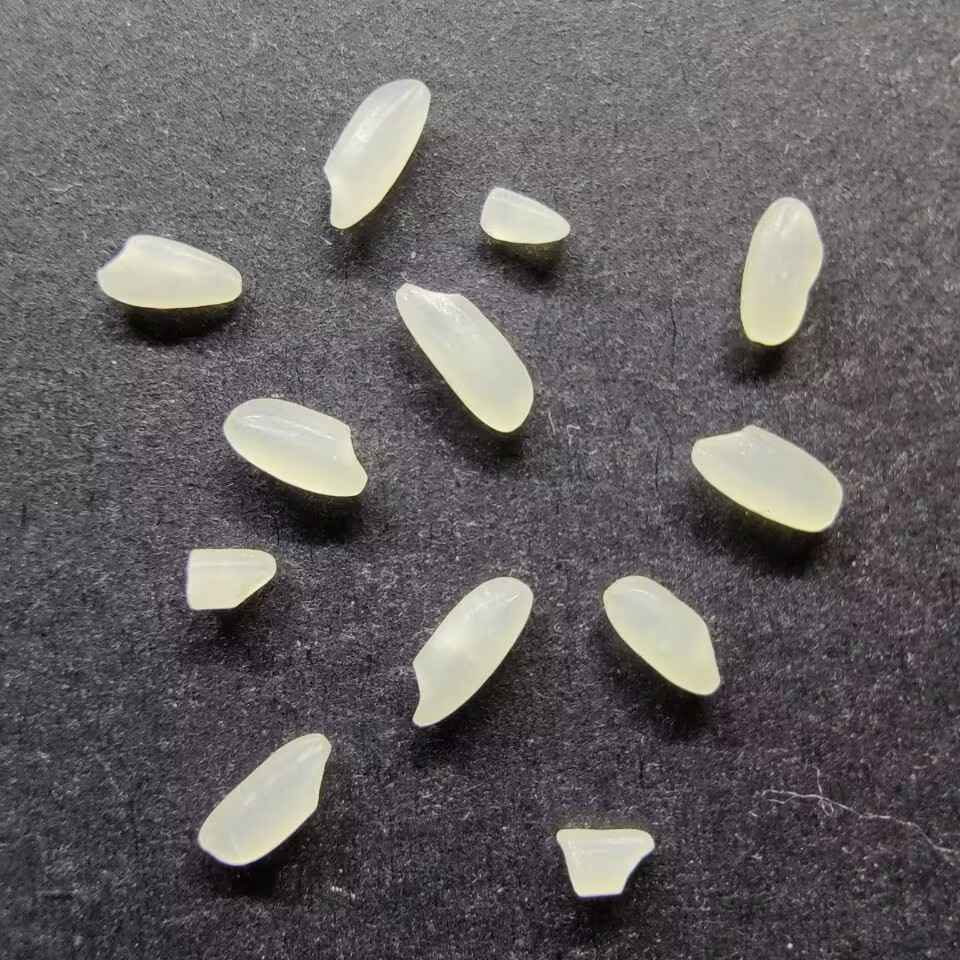broken: (554, 826, 655, 899), (183, 547, 279, 610), (478, 185, 574, 245)
rice: (393, 280, 536, 435), (409, 576, 535, 729), (198, 730, 334, 868), (320, 76, 432, 231), (691, 423, 844, 533), (601, 573, 725, 697), (221, 397, 368, 497), (738, 195, 824, 347), (95, 231, 243, 312)
